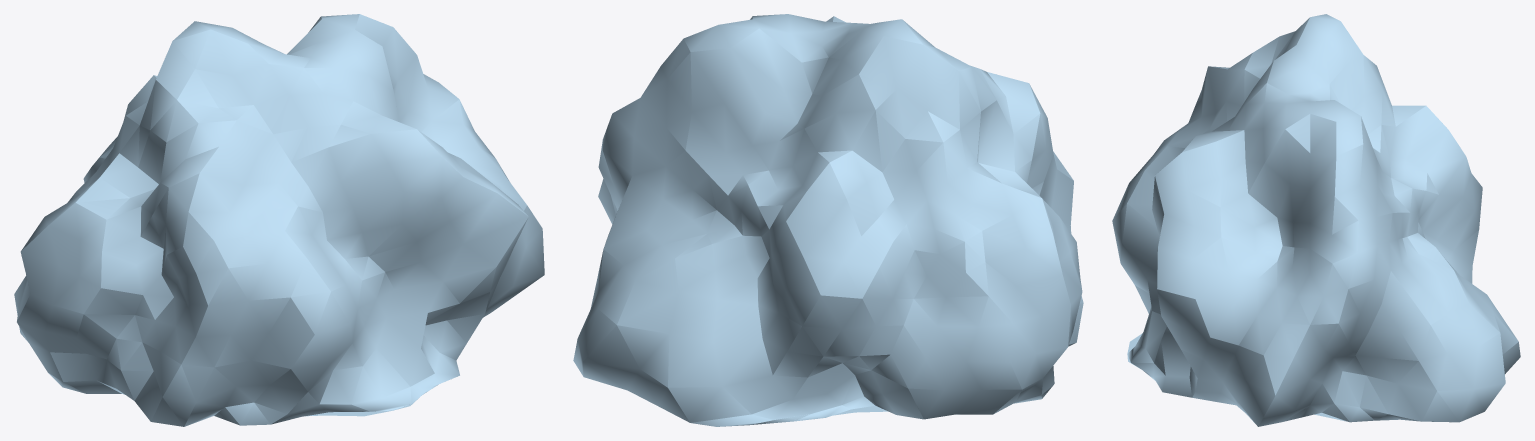
File: iceberg.glb
3 views of the same model, side by side, from view 1: azimuth 30°, elevation 25°; view 2: azimuth 150°, elevation 25°; view 3: azimuth 270°, elevation 25° (orthographic). The views are drawn at different scales.
Visible parts, largest first — view 1: iceberg; view 2: iceberg; view 3: iceberg.
Part boxes in pixels (left/top/right/bottom): iceberg: left=14, top=14, right=544, bottom=426; iceberg: left=573, top=14, right=1083, bottom=426; iceberg: left=1112, top=14, right=1520, bottom=426.
Bounding box in the file's own units: 20.85 × 13.34 × 16.46.
